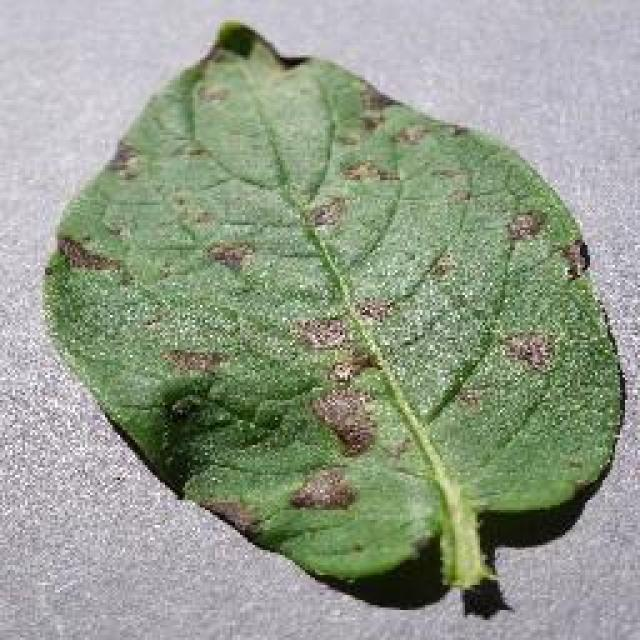Potato___Early_blight: (28, 2, 632, 622)
